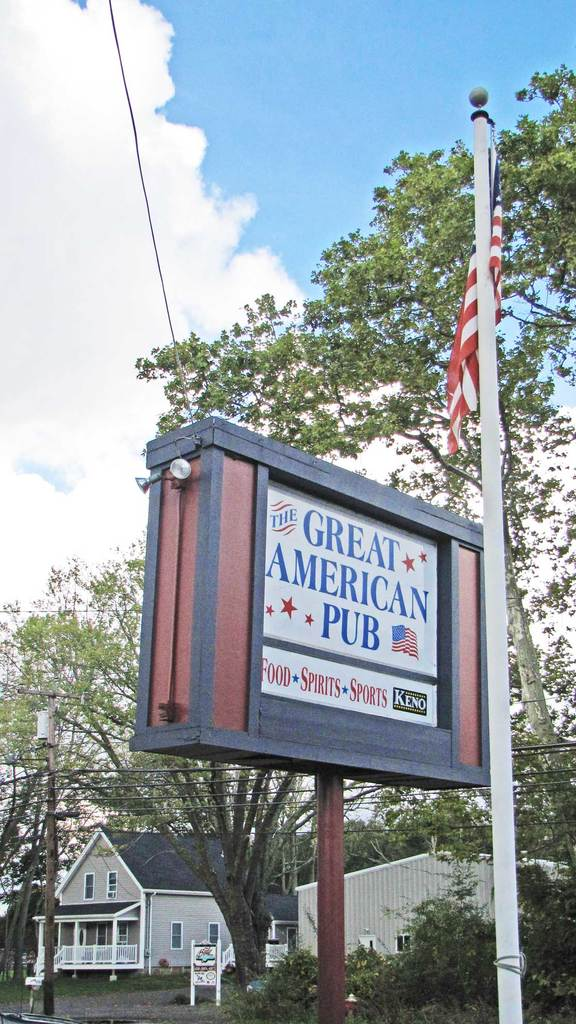Tree: (0, 62, 575, 1005), (0, 558, 325, 970)
